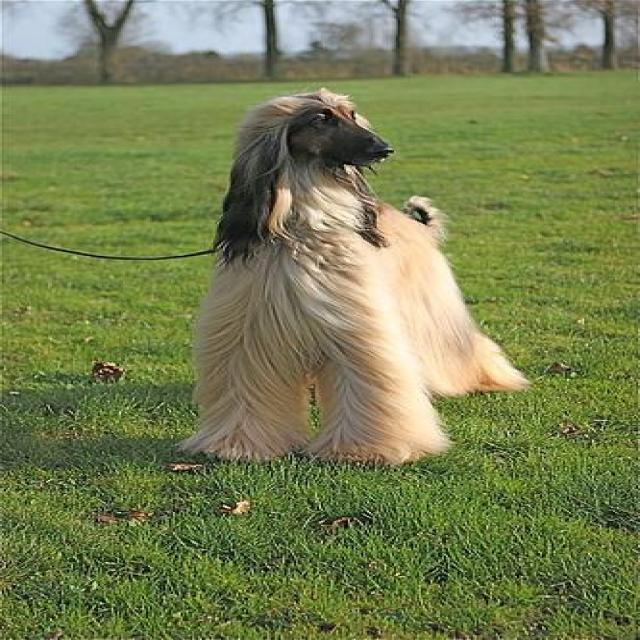afghan_hound: (175, 86, 536, 464)
